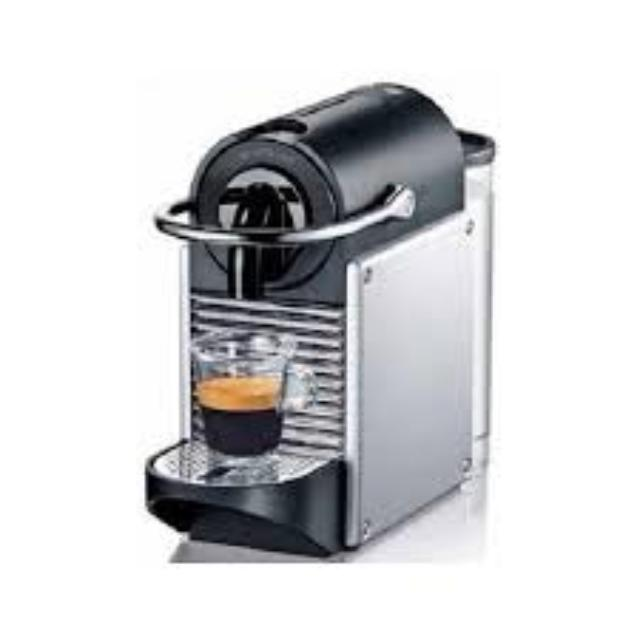Coffee-Machine: (140, 76, 504, 564)
